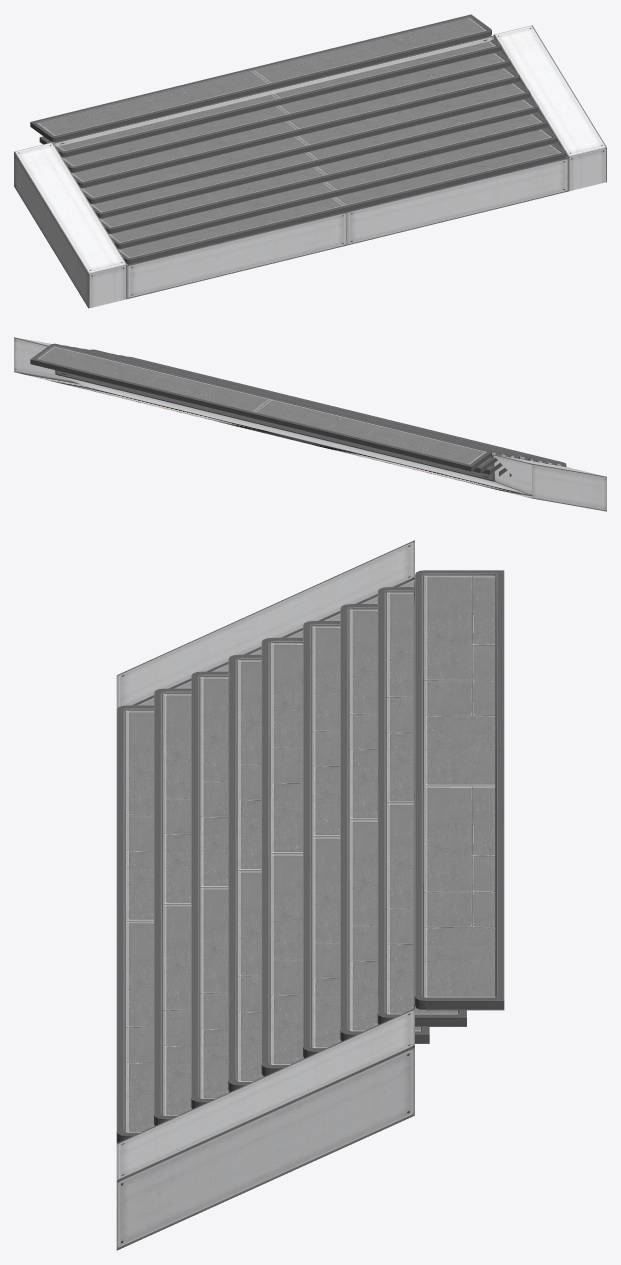
File: CitDock_Stairs_A01.FBX
The picture shows the model from 3 angles, top to bottom: view 1: azimuth 30°, elevation 25°; view 2: azimuth 150°, elevation 25°; view 3: azimuth 270°, elevation 25°; orthographic projection. The views are drawn at different scales.
Visible parts, largest first — view 1: CitDock_Stairs_A01; view 2: CitDock_Stairs_A01; view 3: CitDock_Stairs_A01.
Part boxes in pixels (<box>): CitDock_Stairs_A01: <box>14,14,606,308</box>; CitDock_Stairs_A01: <box>14,337,606,511</box>; CitDock_Stairs_A01: <box>116,540,504,1250</box>.
Size of the model in its own units: 8.03 by 1.57 by 2.6.
